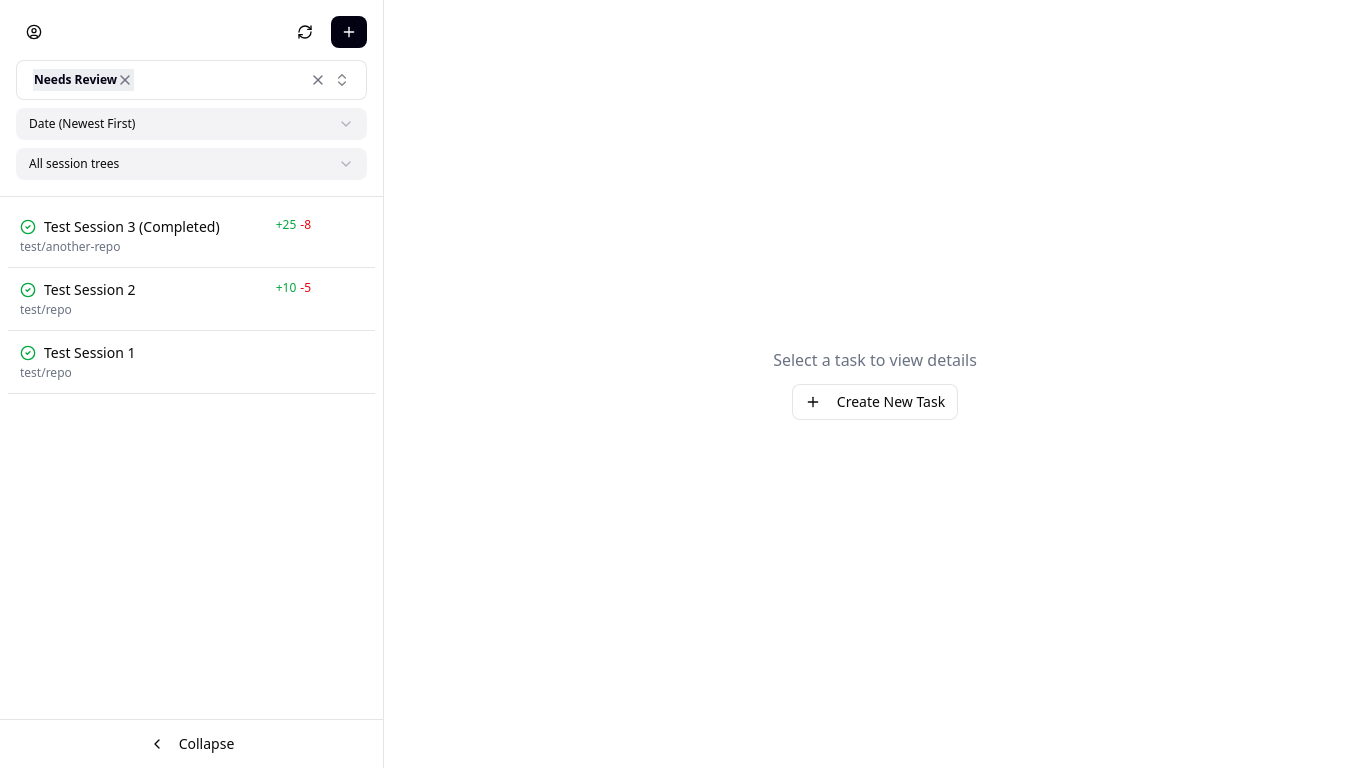
Test: User Flows Integration Tests › Creating a New Task › should cancel task creation and return to previous view
Expected: the heading "Test Session 1" is shown, [44,343,136,363]
Click the button "Create New Task" at (875, 402), box [792,384,958,420]
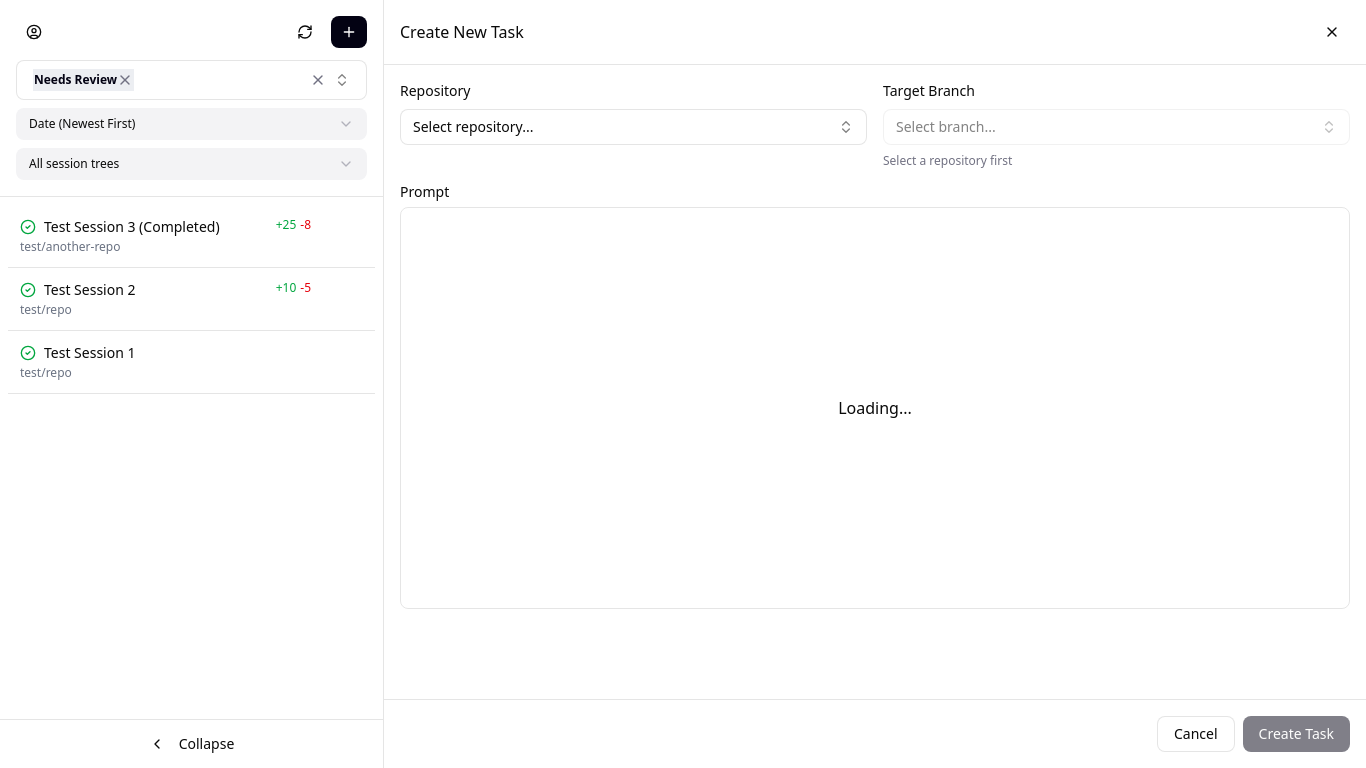
Expected: the heading "Create New Task" is shown, [400,20,524,44]
Click the button "Cancel" at (1196, 734), box [1157,716,1235,752]
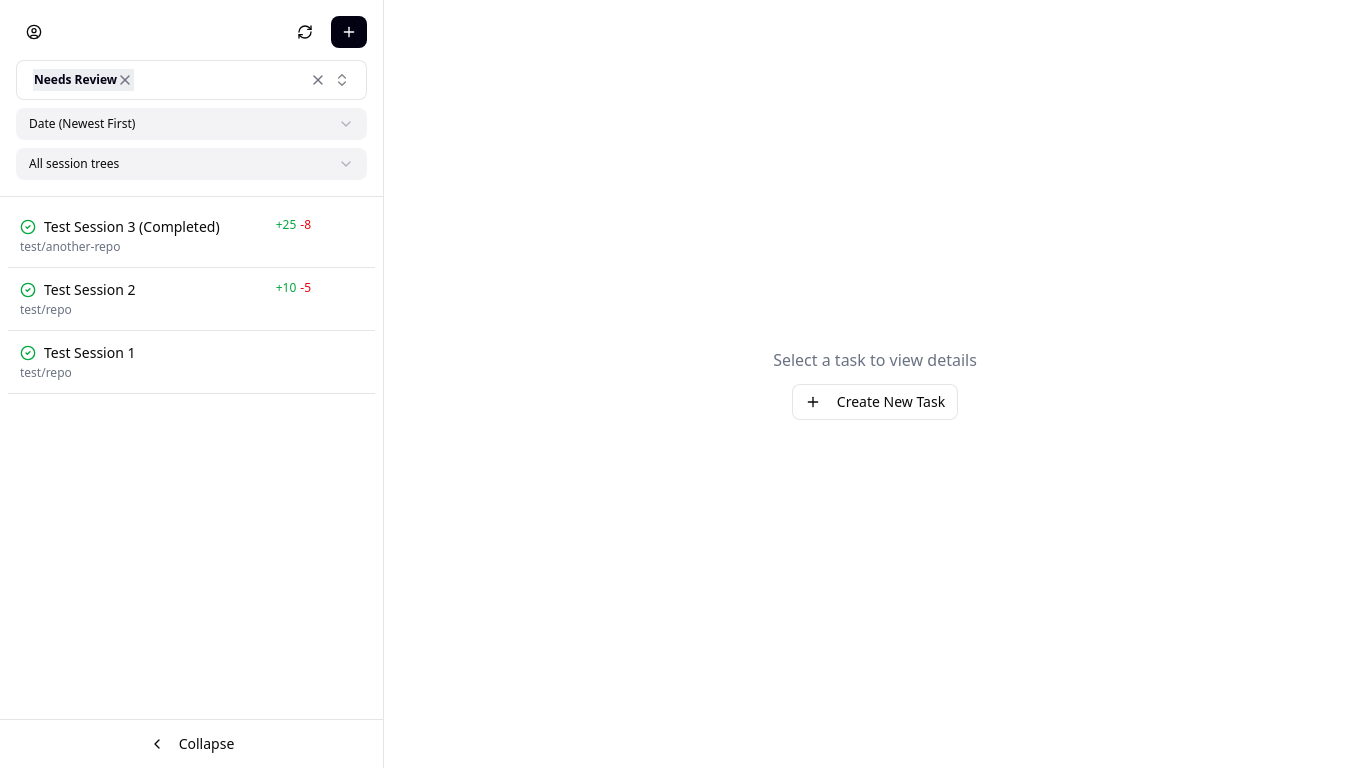
Now the text "Select a task to view details" is shown, box [773,348,977,372]
